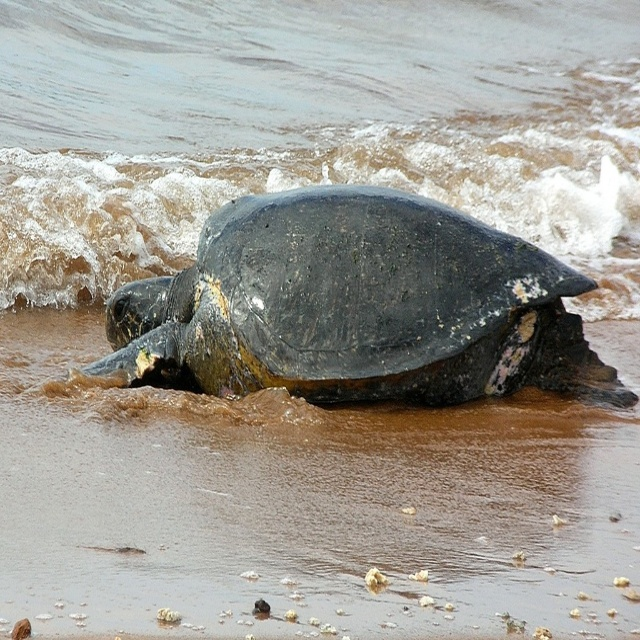Sea turtle: (62, 183, 640, 409)
